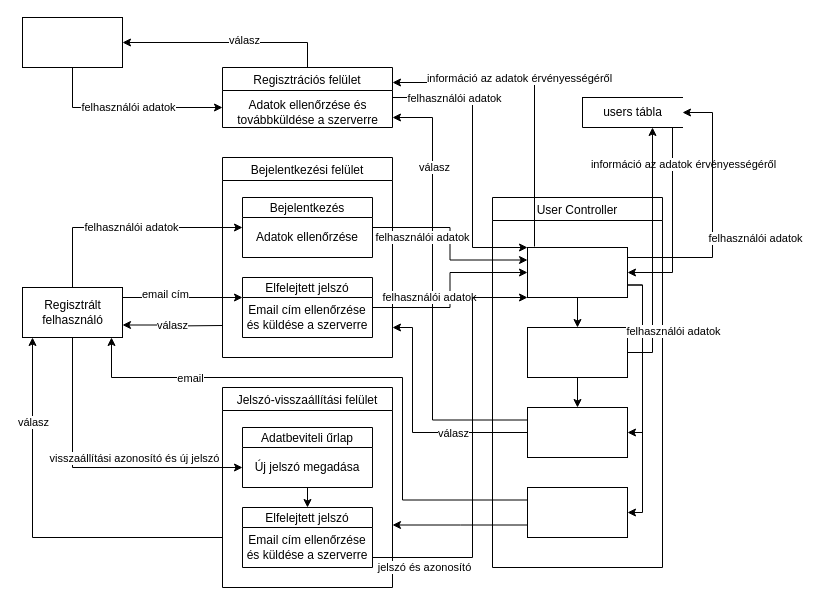
This 819x605 diagram has some shape labels left out. The shapes that lost their labels are listed below. From the top down, each one's centre as x and y in pixels, then its label:
the point at 72,42: Vendég
the point at 577,272: Adatok validálása
the point at 577,352: Felhasználó mentése
the point at 577,432: Felhasználó beléptetése
the point at 577,512: Email küldése a jelszó visszaállításához
